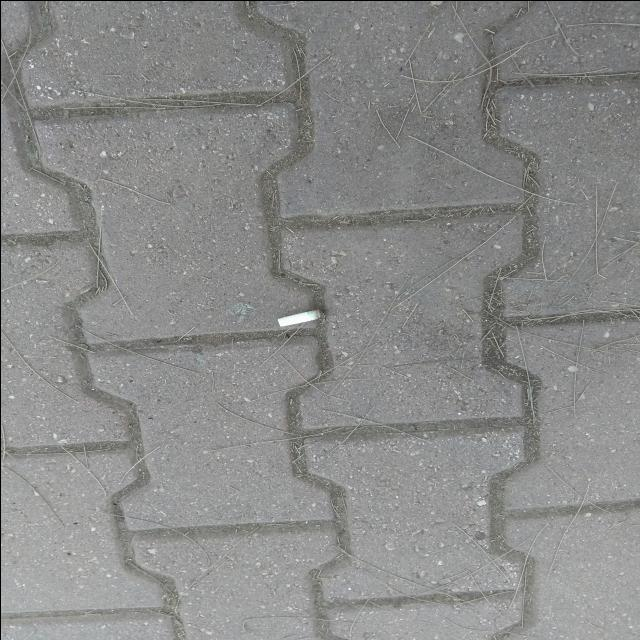Cigarette: (276, 307, 323, 326)
